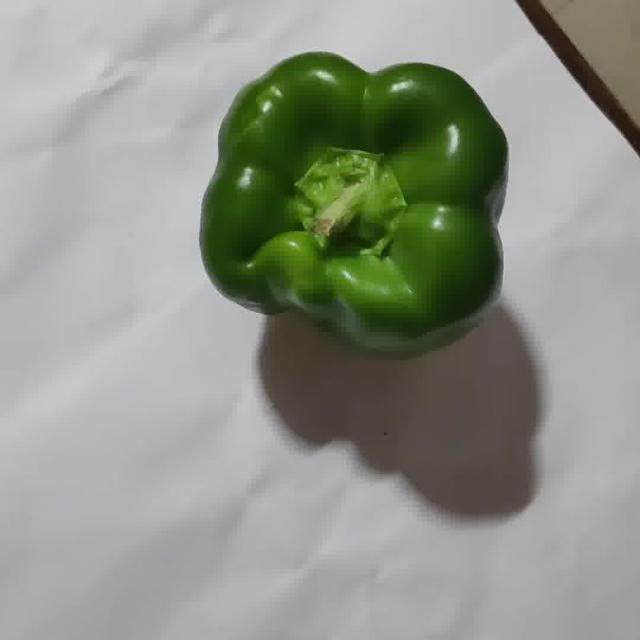Bell Pepper: (200, 53, 507, 351)
